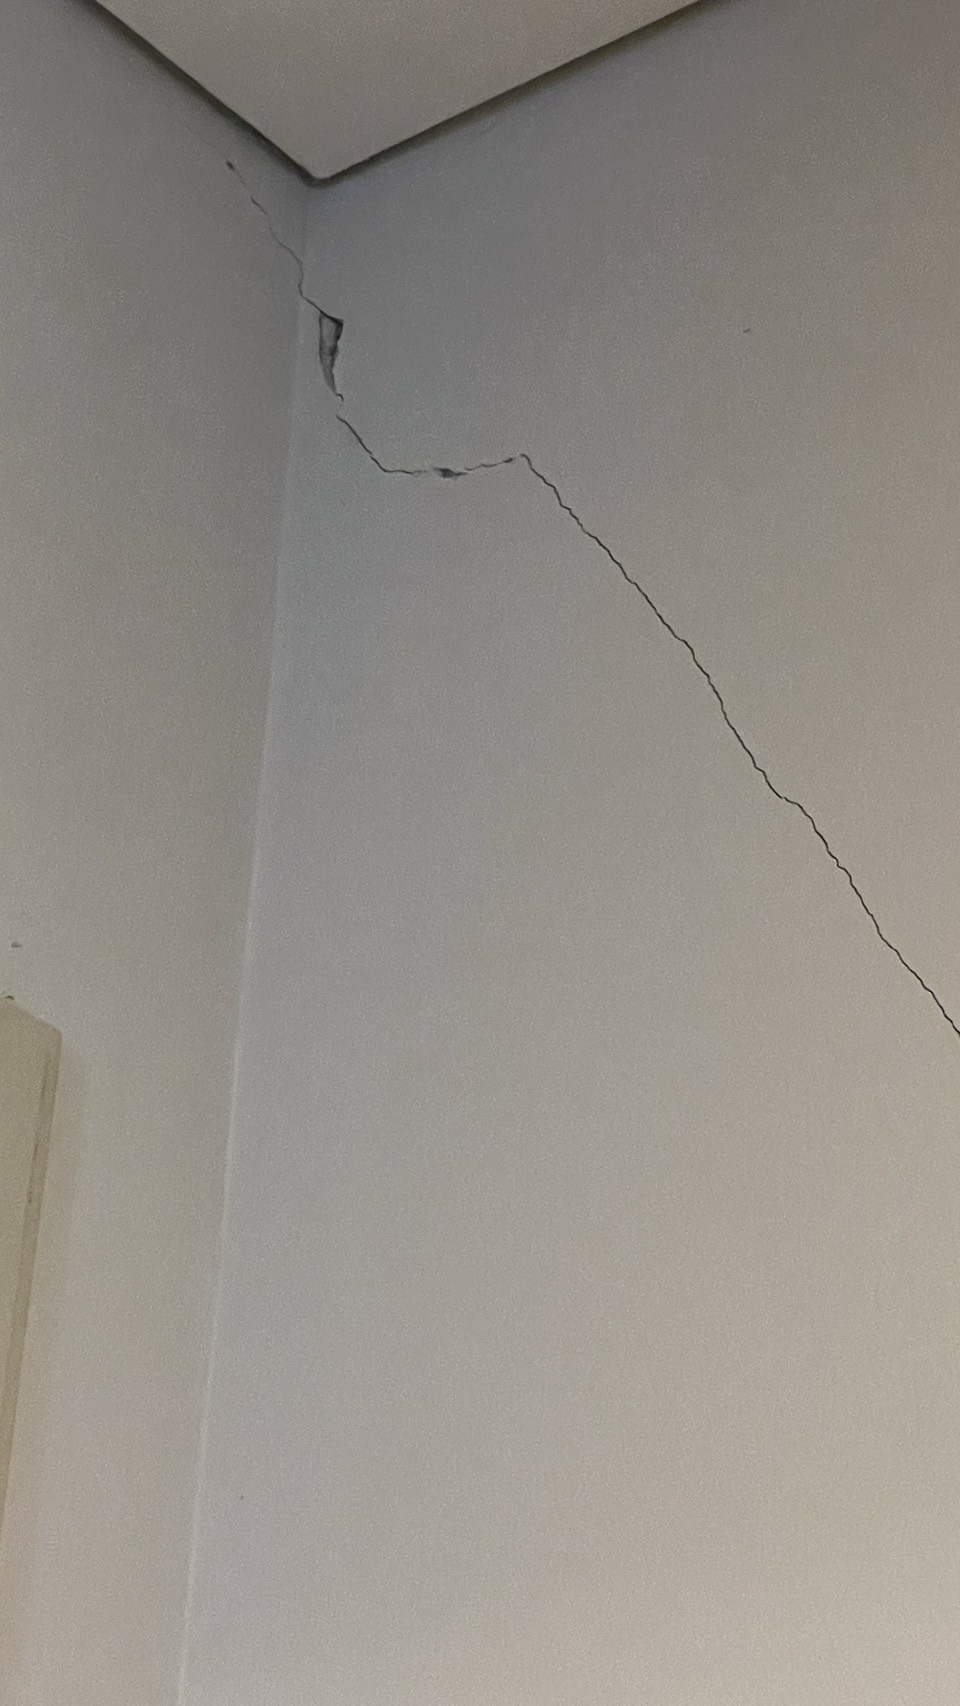Low: (172, 134, 960, 1154)
